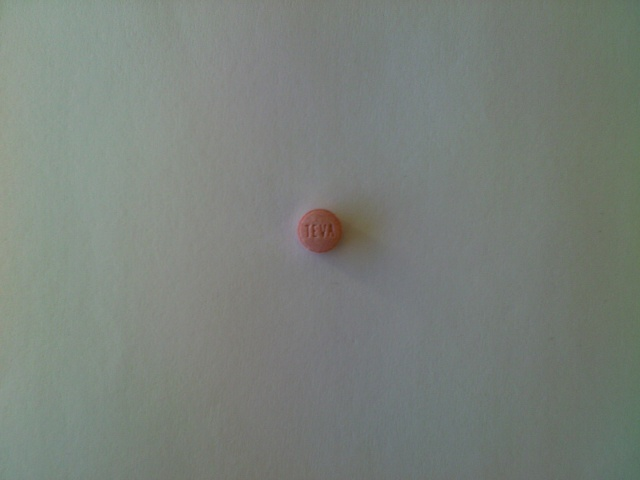A: (327, 222, 336, 240)
E: (311, 223, 317, 238)
T: (302, 221, 311, 241)
V: (317, 221, 327, 240)
